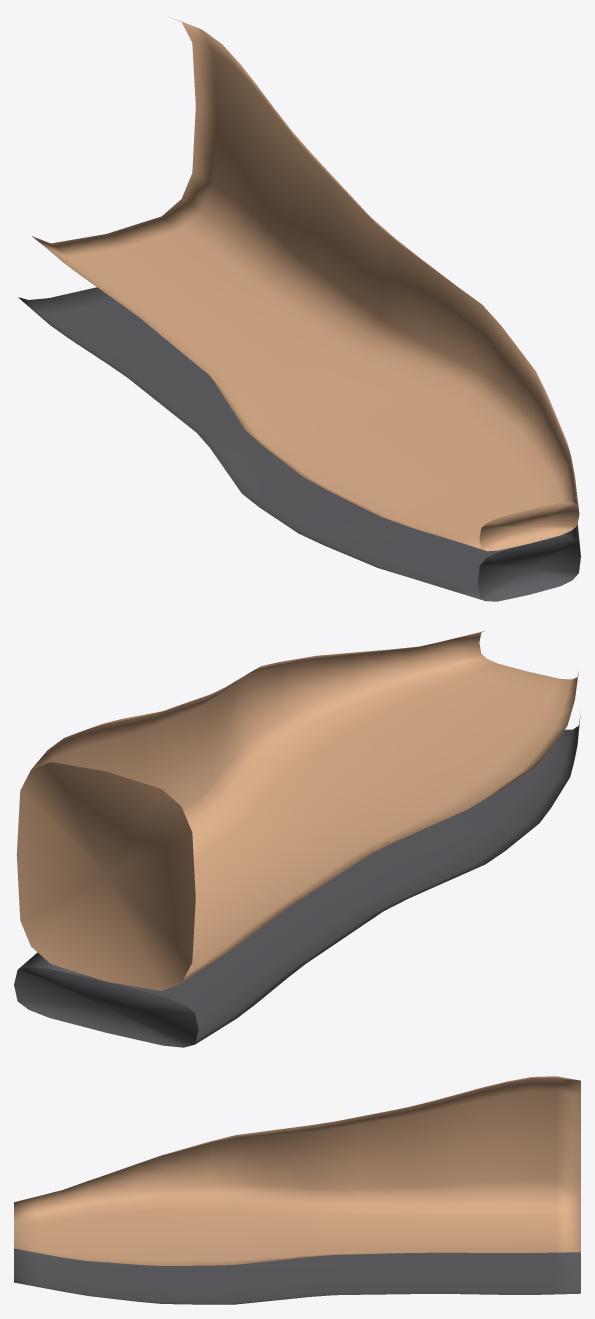
File: placeholder_shoe_meshopt.glb
3 views of the same model, one above another, from view 1: azimuth 30°, elevation 25°; view 2: azimuth 150°, elevation 25°; view 3: azimuth 270°, elevation 25° (orthographic). The views are drawn at different scales.
Visible parts, largest first — view 1: placeholder_shoe; view 2: placeholder_shoe; view 3: placeholder_shoe.
Part boxes in pixels (x1,y1,x2,y2): placeholder_shoe: [18, 15, 580, 601]; placeholder_shoe: [14, 630, 580, 1047]; placeholder_shoe: [14, 1076, 580, 1304].
Bounding box in the file's own units: 0.0943 × 0.0942 × 0.27.
